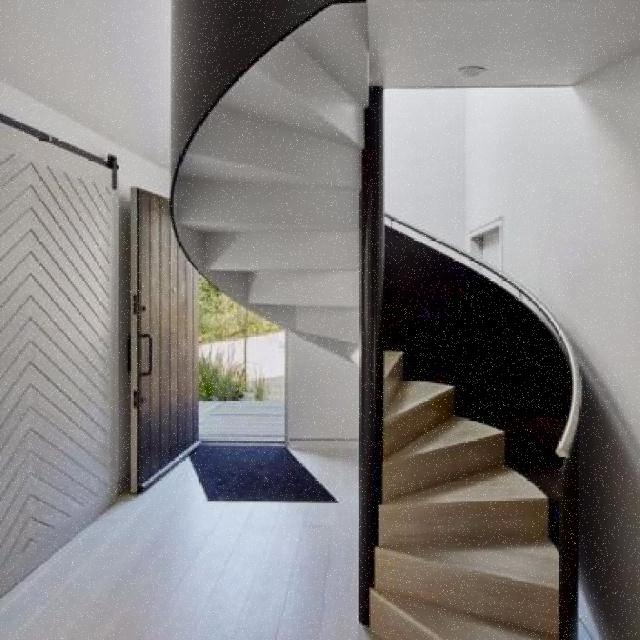stair: (157, 12, 620, 640)
